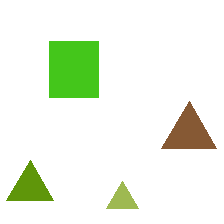rectangle: (49, 41, 98, 97)
triangle: (161, 101, 216, 148), (6, 160, 53, 200), (106, 181, 138, 208)
